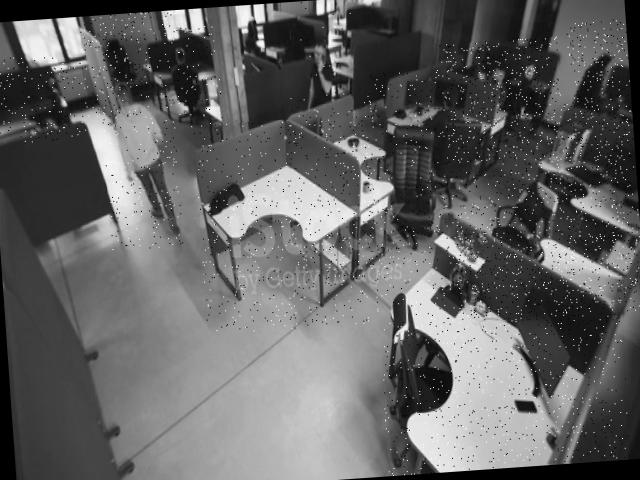empty chair: (374, 264, 456, 476), (385, 120, 449, 244), (490, 164, 560, 270), (26, 55, 84, 142), (101, 22, 146, 96), (587, 91, 628, 123), (324, 64, 354, 105)
occupiedchair: (420, 67, 494, 210), (480, 47, 545, 159), (160, 25, 212, 130)
